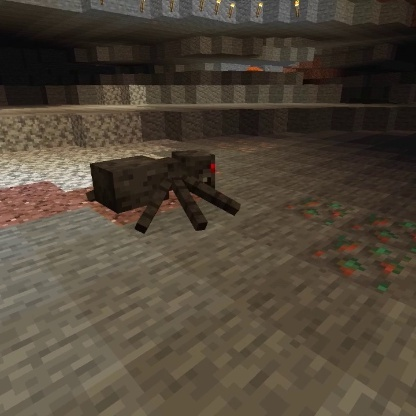spider: (83, 144, 246, 239)
